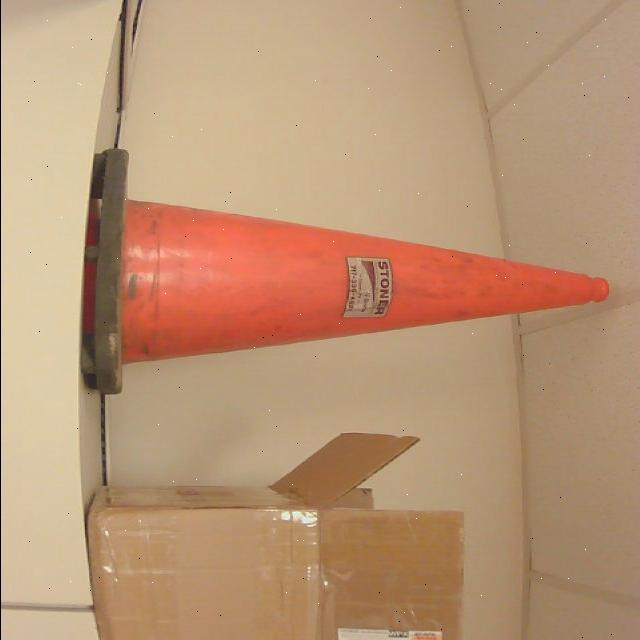traffic cone: (80, 148, 610, 396)
